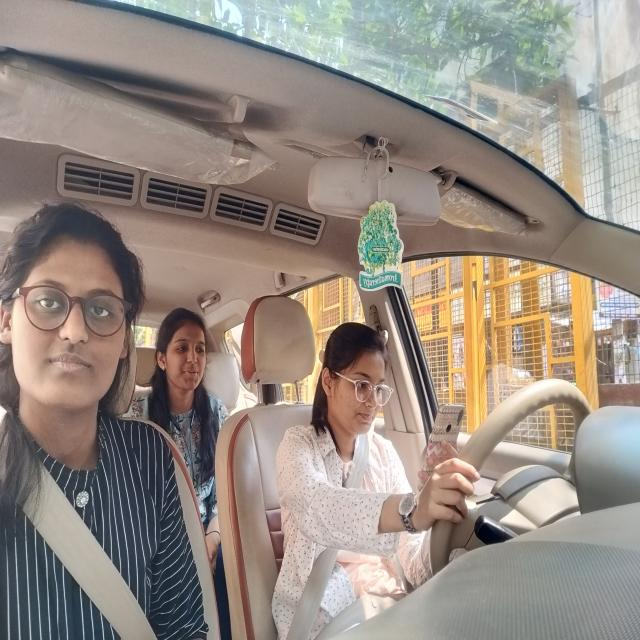person: (1, 205, 146, 423), (319, 318, 393, 444), (150, 308, 215, 406), (423, 398, 469, 482)
